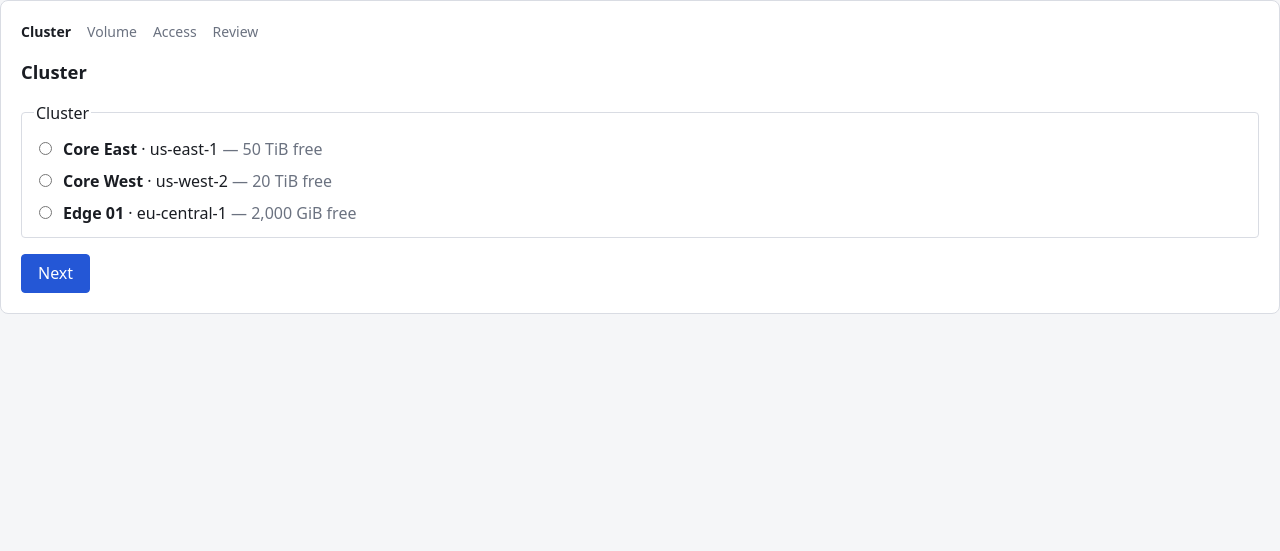
Test: VolumeStep › rejects capacity above the free capacity of the cluster
The image size is (1280, 551).
Step 1. Click the radio button labelled "Edge 01 · eu-central-1 — 2,000 GiB free" → point(46, 212), box left=39, top=206, right=52, bottom=219
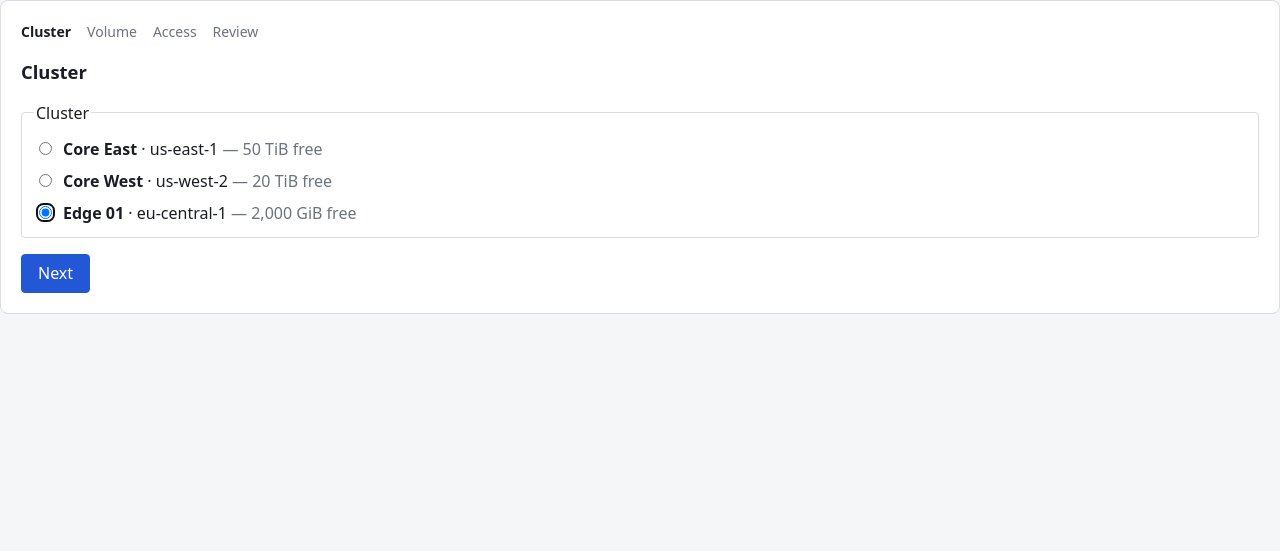
Step 2. Click the button "Next" → point(56, 273), box left=21, top=254, right=90, bottom=293
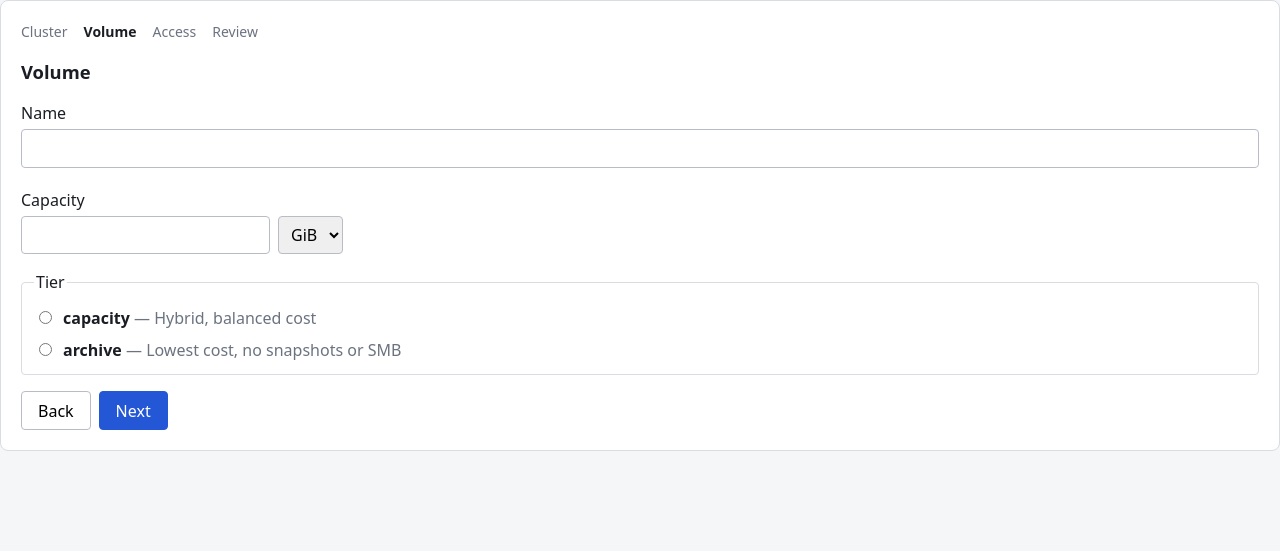
Step 3. Type "3000" into the number field labelled "Capacity" → point(146, 235), box left=21, top=216, right=270, bottom=254
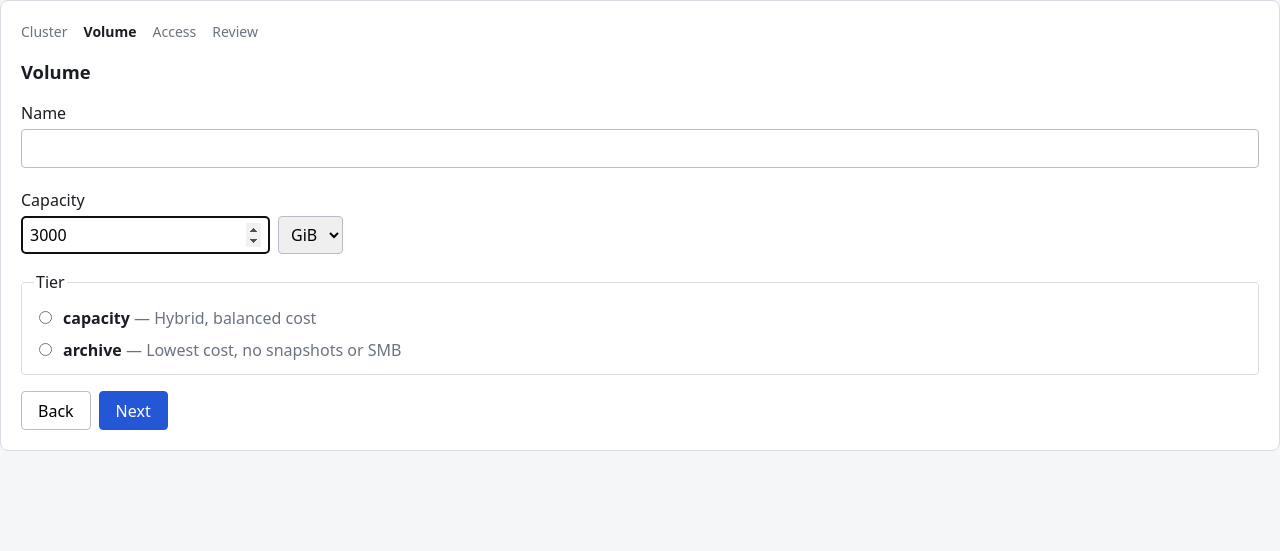
Step 4. Click the button "Next" → point(133, 411), box left=99, top=391, right=168, bottom=430
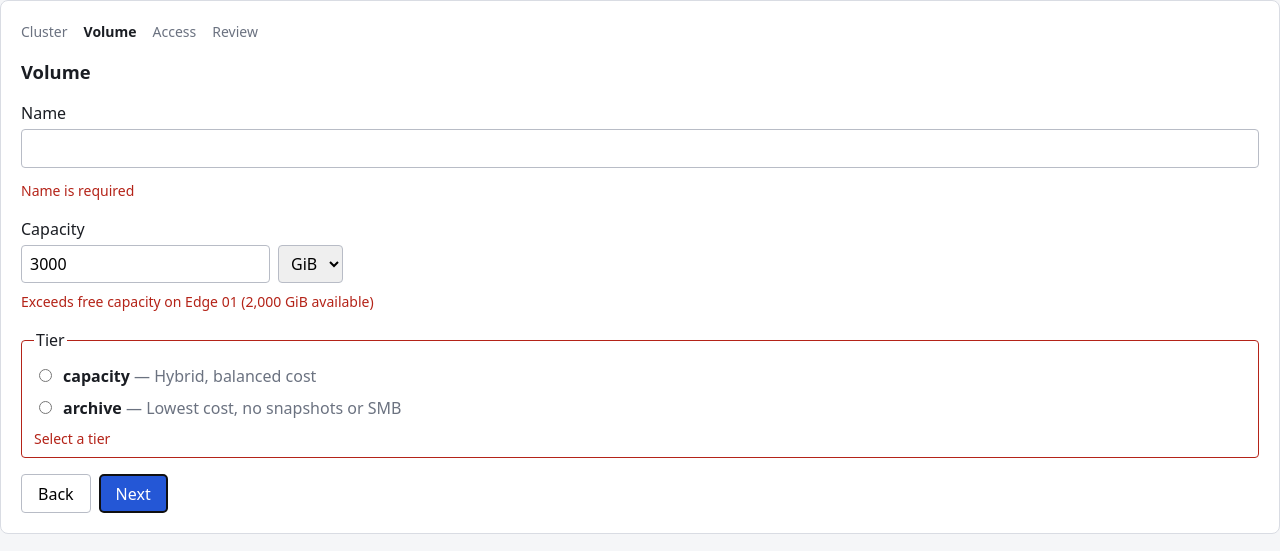
Check: the text "Exceeds free capacity on Edge 01 (2,000 GiB available)" is shown, box left=21, top=292, right=374, bottom=311
